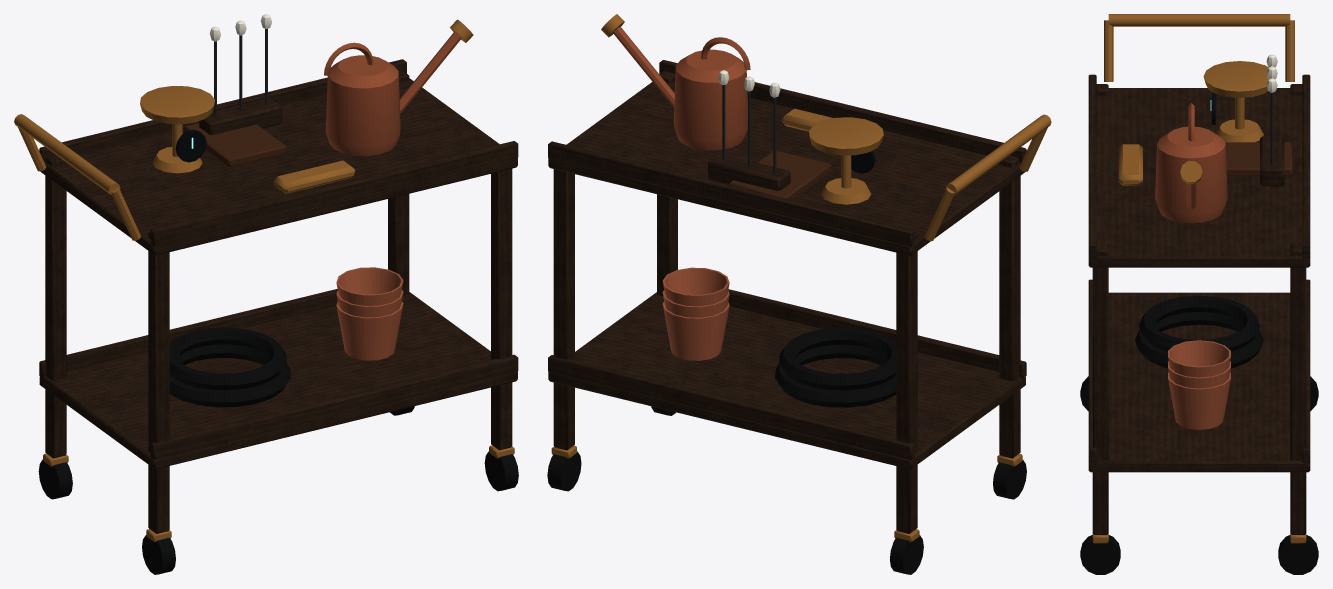
File: conservatory-equipment-cart.lod0.glb
The picture shows the model from 3 angles, left to right: view 1: azimuth 30°, elevation 25°; view 2: azimuth 150°, elevation 25°; view 3: azimuth 270°, elevation 25°; orthographic projection. The views are drawn at different scales.
Parts seen in each view (by area): view 1: conservatory_equipment_cart_Timber • oiled walnut, conservatory_equipment_cart_Trim • places palette; view 2: conservatory_equipment_cart_Timber • oiled walnut, conservatory_equipment_cart_Trim • places palette; view 3: conservatory_equipment_cart_Timber • oiled walnut, conservatory_equipment_cart_Trim • places palette, conservatory_equipment_cart_Ceramic • warm ivory.
Boxes of the visible parts, bbox=[...] form: conservatory_equipment_cart_Timber • oiled walnut: bbox=[39, 59, 518, 533]; conservatory_equipment_cart_Trim • places palette: bbox=[14, 19, 518, 574]; conservatory_equipment_cart_Timber • oiled walnut: bbox=[548, 60, 1026, 533]; conservatory_equipment_cart_Trim • places palette: bbox=[547, 14, 1051, 574]; conservatory_equipment_cart_Timber • oiled walnut: bbox=[1088, 74, 1310, 534]; conservatory_equipment_cart_Trim • places palette: bbox=[1080, 14, 1318, 574]; conservatory_equipment_cart_Ceramic • warm ivory: bbox=[1266, 54, 1277, 92].
Bounding box in the file's own units: 1.11 × 1.16 × 0.59.
Materials: 4 (2 with a texture image).
